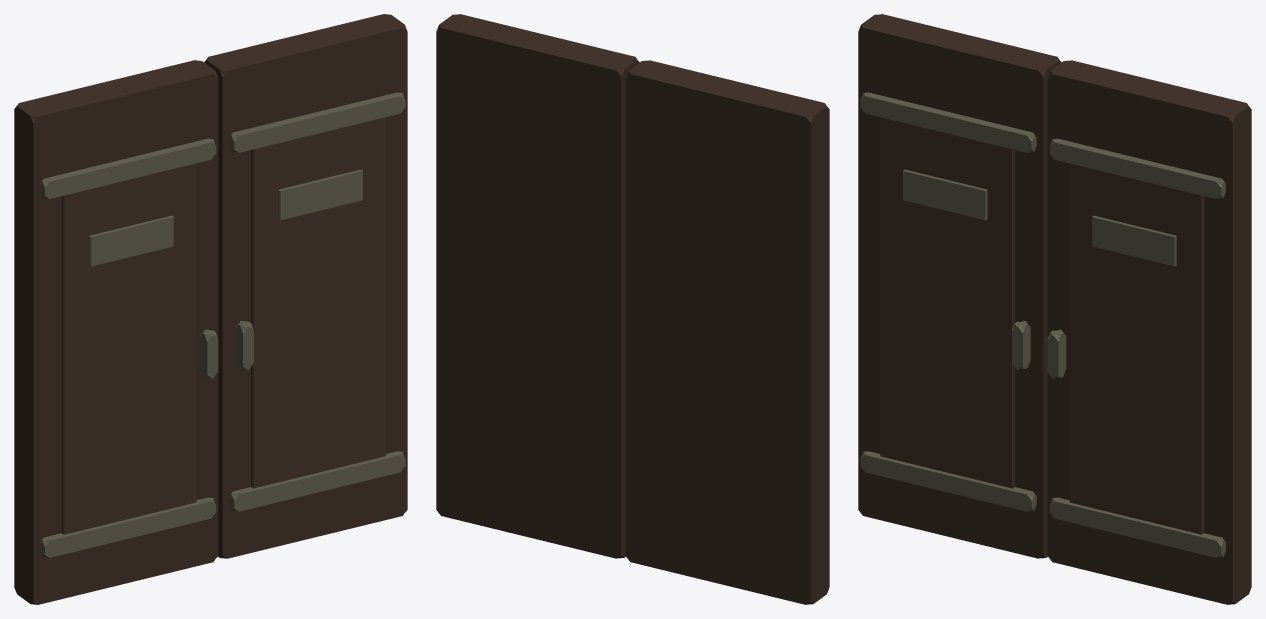
Rendered from door_double.glb.
3 renders of one model, left to right at view 1: azimuth 30°, elevation 25°; view 2: azimuth 150°, elevation 25°; view 3: azimuth 330°, elevation 25°, orthographic.
Visible parts, largest first — view 1: DoorLeft, DoorRight; view 2: DoorLeft, DoorRight; view 3: DoorRight, DoorLeft.
Part boxes in pixels (<box>): DoorLeft: <box>14,60,218,604</box>; DoorRight: <box>204,14,407,558</box>; DoorLeft: <box>625,60,829,604</box>; DoorRight: <box>436,14,639,558</box>; DoorRight: <box>1047,60,1251,604</box>; DoorLeft: <box>858,14,1061,558</box>.
Bounding box in the file's own units: 2.73 × 3.4 × 0.37.
